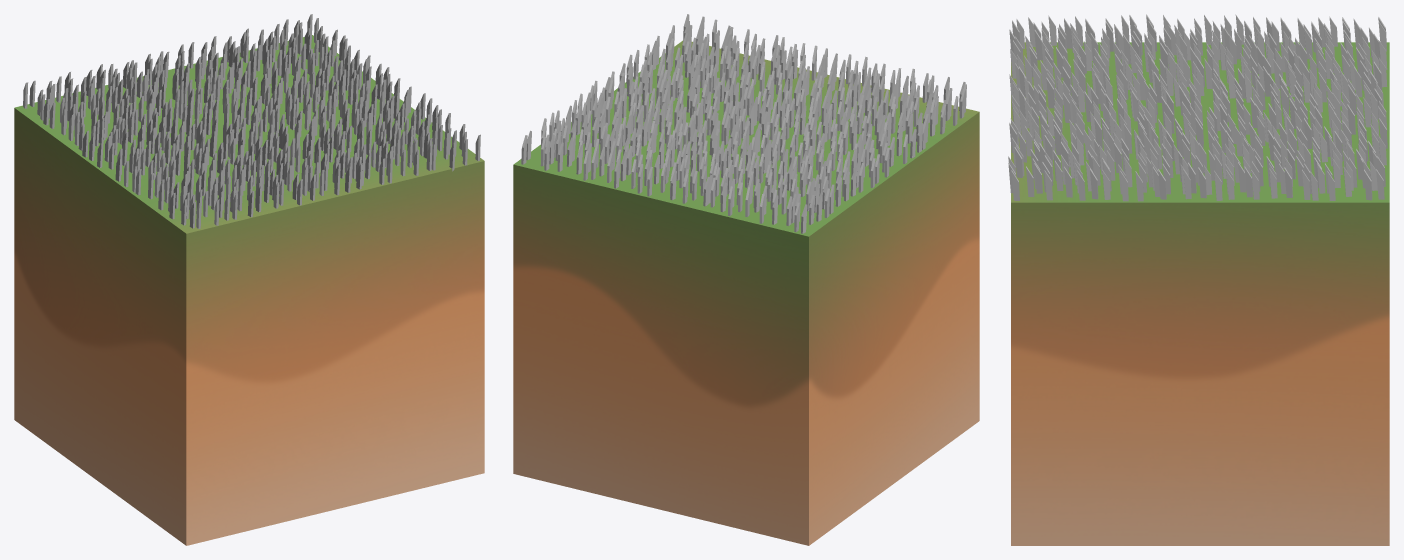
Rendered from GrassNewNew.fbx.
3 renders of one model, left to right at view 1: azimuth 30°, elevation 25°; view 2: azimuth 150°, elevation 25°; view 3: azimuth 270°, elevation 25°, orthographic. The views are drawn at different scales.
Visible parts, largest first — view 1: pCube1, MASH2_ReproMesh1; view 2: pCube1, MASH2_ReproMesh1; view 3: pCube1, MASH2_ReproMesh1.
Part boxes in pixels (x1=…): pCube1: x1=14, y1=35, x2=484, y2=545; MASH2_ReproMesh1: x1=23, y1=14, x2=480, y2=228; pCube1: x1=513, y1=40, x2=979, y2=545; MASH2_ReproMesh1: x1=521, y1=14, x2=966, y2=233; pCube1: x1=1011, y1=42, x2=1389, y2=545; MASH2_ReproMesh1: x1=1008, y1=14, x2=1387, y2=201.
Size of the model in its own units: 1 by 1.09 by 1.01.
